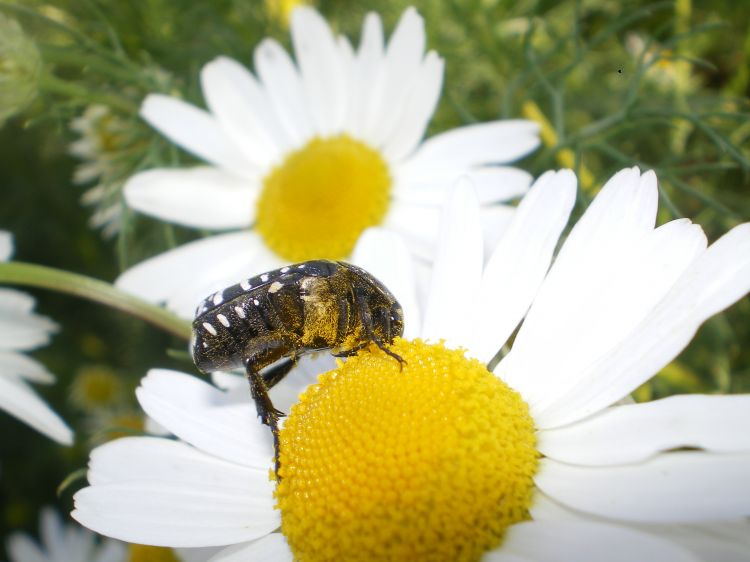Oxythyrea_funesta: (185, 251, 415, 484)
